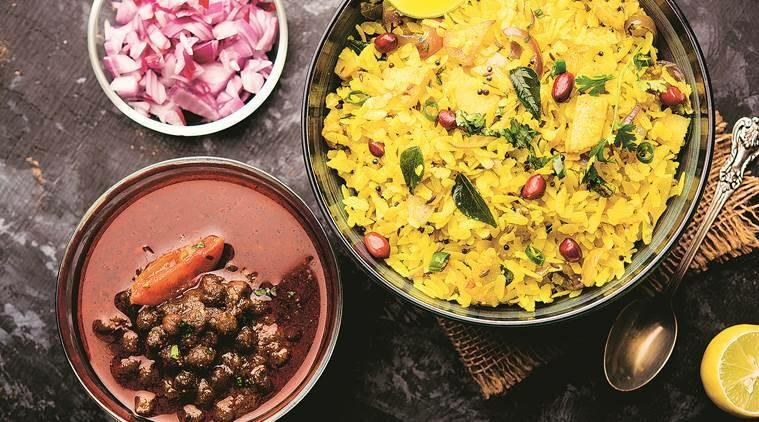Poha: (319, 0, 694, 312)
